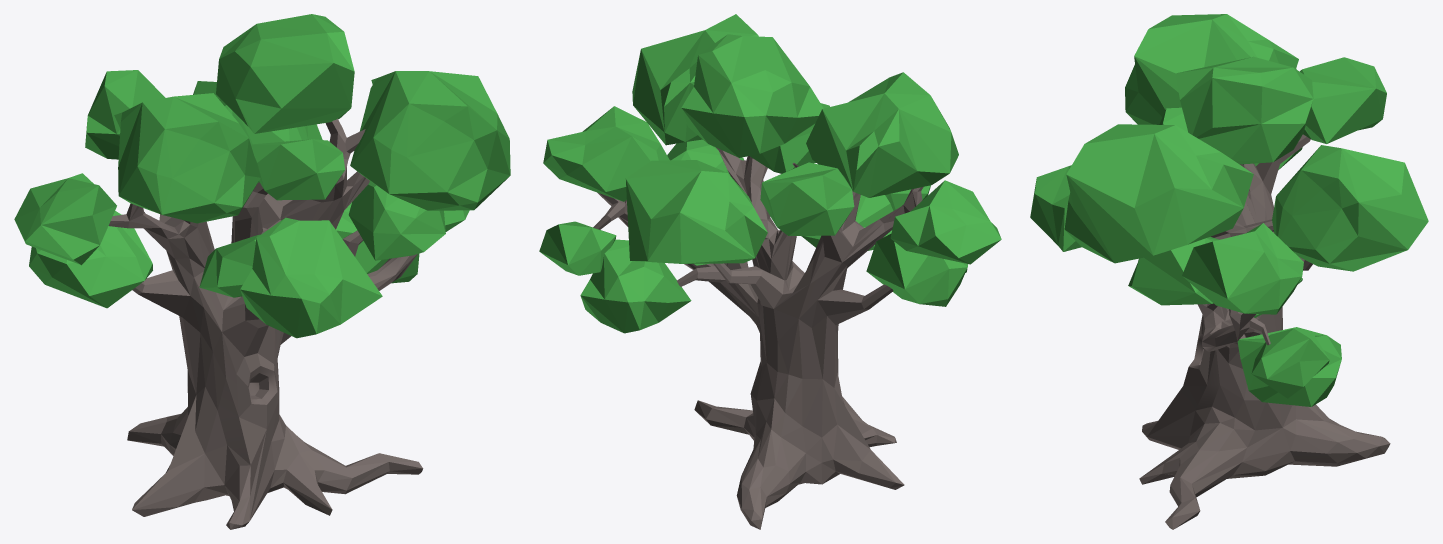
Rendered from fantasy_plant_034.fbx.
The picture shows the model from 3 angles, left to right: view 1: azimuth 30°, elevation 25°; view 2: azimuth 150°, elevation 25°; view 3: azimuth 270°, elevation 25°; orthographic projection. The views are drawn at different scales.
Parts seen in each view (by area): view 1: fantasy_plant.034; view 2: fantasy_plant.034; view 3: fantasy_plant.034.
Part boxes in pixels (x1,y1,x2,y2): fantasy_plant.034: (14, 14, 510, 529); fantasy_plant.034: (539, 14, 1001, 529); fantasy_plant.034: (1030, 14, 1428, 529).
Bounding box in the file's own units: 2060 × 1850 × 1536.
Materials: 1 (1 with a texture image).
